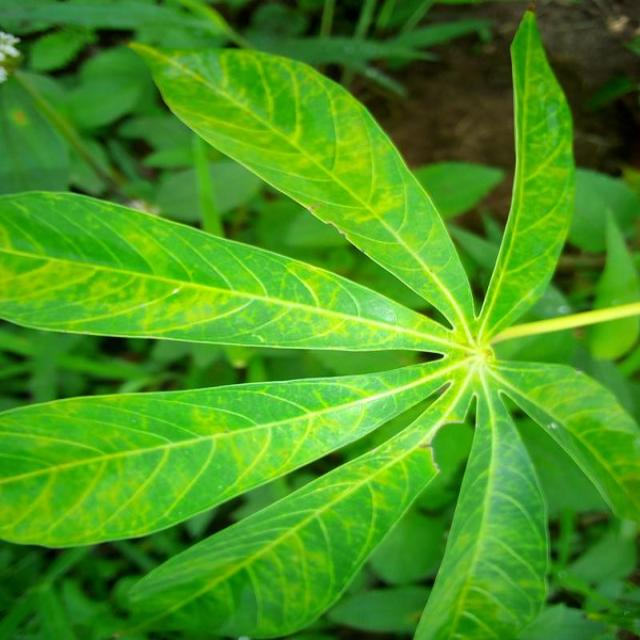cassava leaf: (0, 9, 638, 636), (126, 37, 477, 333)
